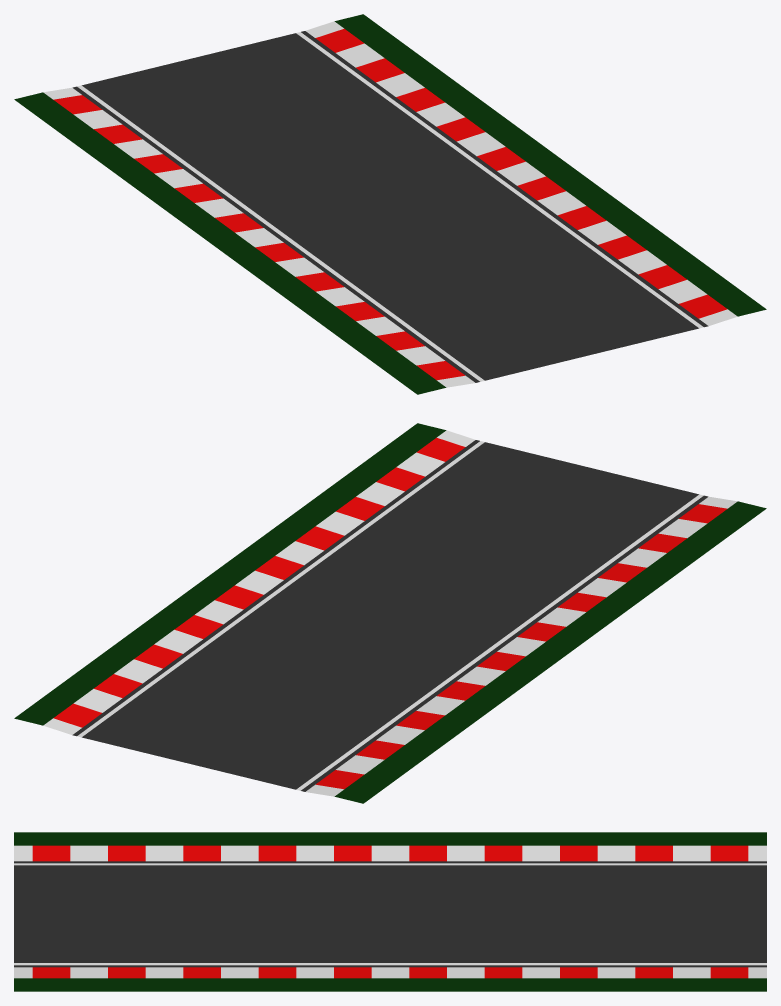
File: ETC0510007.fbx
The picture shows the model from 3 angles, top to bottom: view 1: azimuth 30°, elevation 25°; view 2: azimuth 150°, elevation 25°; view 3: azimuth 270°, elevation 25°; orthographic projection. The views are drawn at different scales.
Parts seen in each view (by area): view 1: smETC0510007; view 2: smETC0510007; view 3: smETC0510007.
Part boxes in pixels (x1,y1,x2,y2): smETC0510007: [14, 14, 766, 394]; smETC0510007: [14, 423, 766, 803]; smETC0510007: [14, 832, 766, 991].
Size of the model in its own units: 1800 by 12 by 3600.
Materials: 1 (1 with a texture image).
